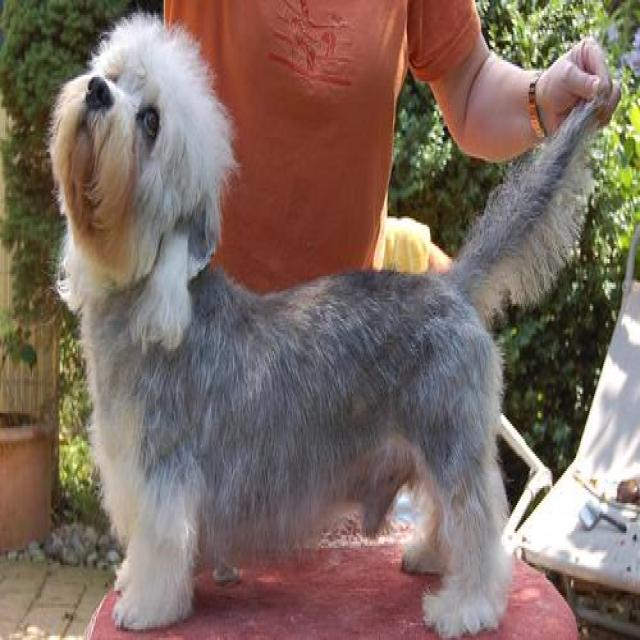dandie_dinmont: (49, 6, 622, 638)
